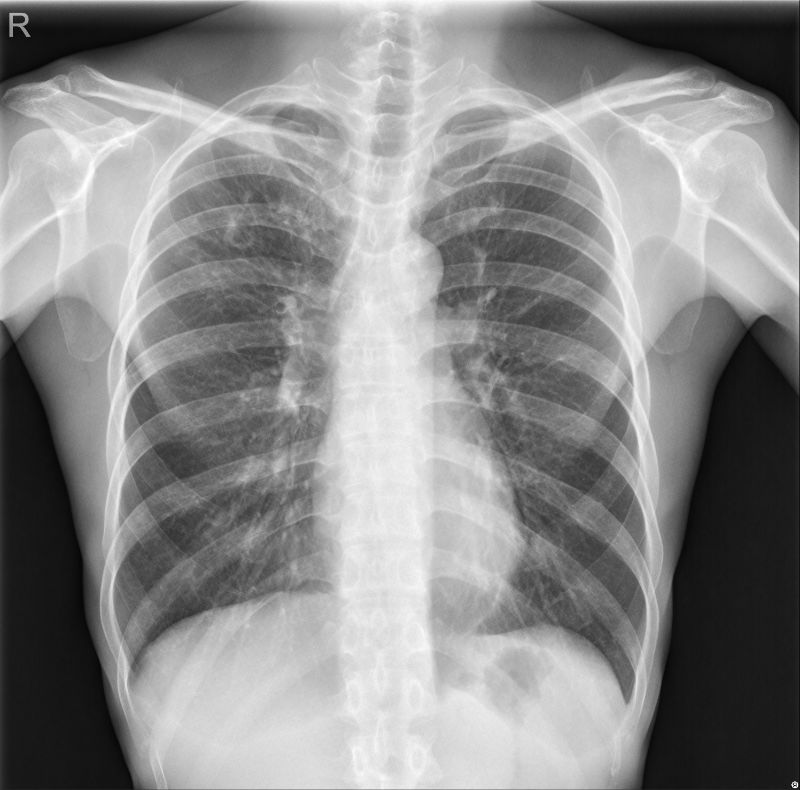Tuberculosis (TB): (213, 185, 311, 273)
